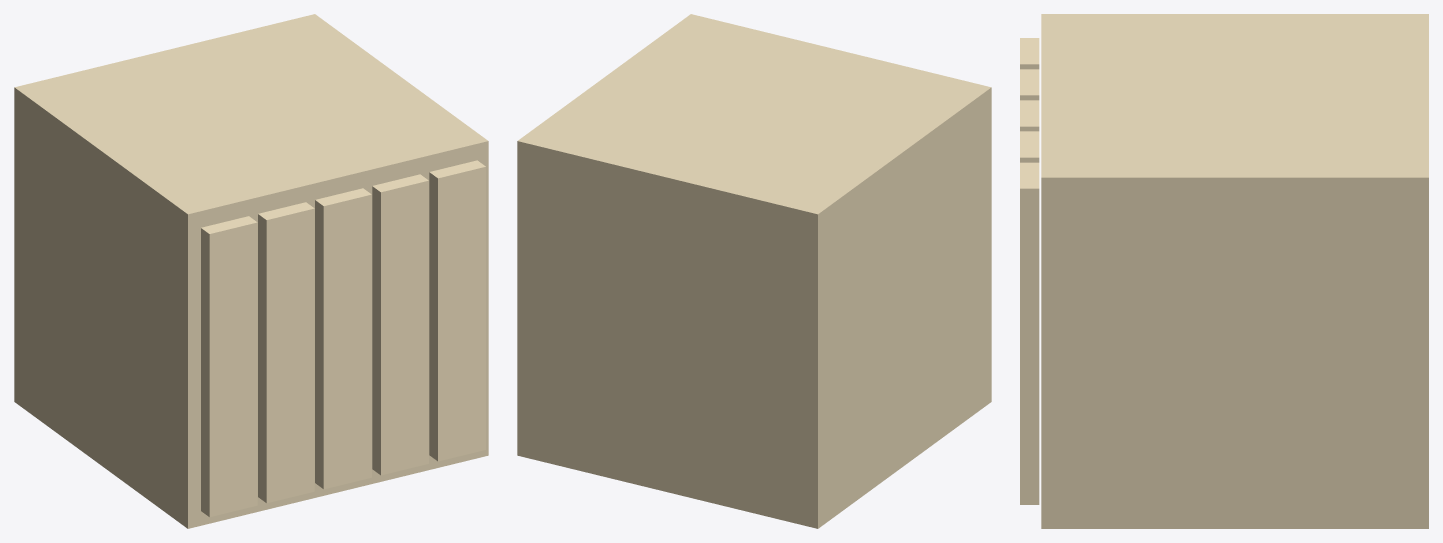
File: 3_sunmere_sand.glb
3 views of the same model, side by side, from view 1: azimuth 30°, elevation 25°; view 2: azimuth 150°, elevation 25°; view 3: azimuth 270°, elevation 25° (orthographic). The views are drawn at different scales.
Visible parts, largest first — view 1: Core, SandRidge_4, SandRidge_1, SandRidge_2, SandRidge_3, SandRidge_0; view 2: Core; view 3: Core, SandRidge_4, SandRidge_3, SandRidge_0, SandRidge_1, SandRidge_2.
Part boxes in pixels (x1,y1,x2,y2): Core: (14, 14, 488, 528); SandRidge_4: (429, 160, 485, 461); SandRidge_1: (258, 202, 314, 503); SandRidge_2: (315, 188, 371, 489); SandRidge_3: (372, 174, 428, 475); SandRidge_0: (201, 216, 257, 517); Core: (517, 14, 991, 528); Core: (1041, 14, 1428, 528); SandRidge_4: (1020, 162, 1039, 504); SandRidge_3: (1020, 131, 1039, 162); SandRidge_0: (1020, 38, 1039, 69); SandRidge_1: (1020, 69, 1039, 100); SandRidge_2: (1020, 100, 1039, 131).
Bounding box in the file's own units: 1 × 1 × 1.05.
